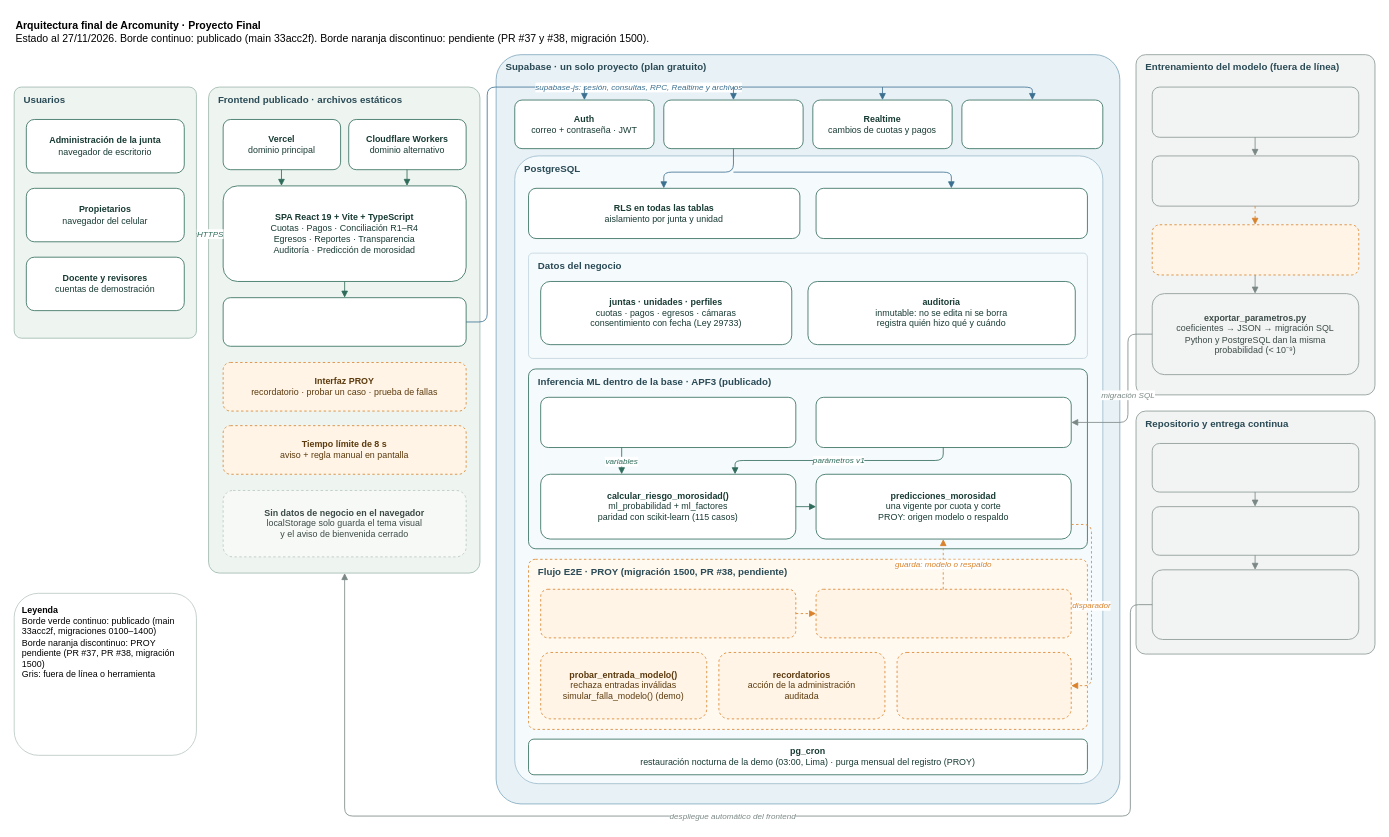
Image size: 1389x837. Some labels were removed from this diagram. Here are the shapes that lost their labels. From the top down, the centre of each, then its label:
point (733, 124): API REST y RPC PostgREST
point (1032, 124): Storage privado comprobantes y QR · URL firmadas
point (1255, 111): Notebook en Colab · Python 3.12 scikit-learn 1.9.1 · random_state 42
point (1255, 180): ml/modelo_morosidad v1: joblib + metadatos (APF3)
point (951, 213): Funciones RPC SECURITY DEFINER únicas vías de escritura financiera
point (1255, 249): ml/proy · PR #37 corrección, mejora y robustez
point (344, 321): supabase-js clave pública + JWT del usuario
point (668, 422): ml_caracteristicas_cuotas() variables al corte, sin fuga de información
point (943, 422): modelos_ml v1: coeficientes, media, escala, umbral 0,2258
point (1255, 467): GitHub main (publicado) · dev · Pull Requests
point (1255, 530): Pruebas automáticas Vitest + PGlite · 151 aprobadas
point (668, 613): calcular_riesgo_periodo() cuotas nuevas → predicción automática
point (943, 613): ml_evaluar() valida entrada y salida · regla de respaldo
point (1255, 604): Builds automáticos main → producción Pull Request → vista previa
point (983, 685): registro_predicciones solo inserción · lote y demora conservación de 12 meses
